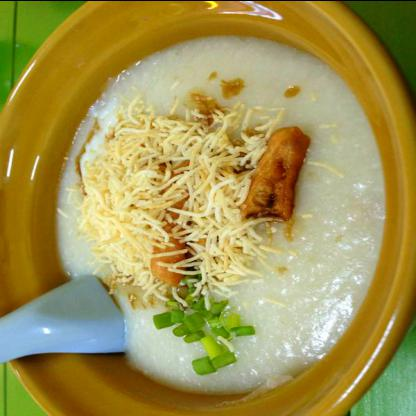Joke: (38, 31, 388, 396)
